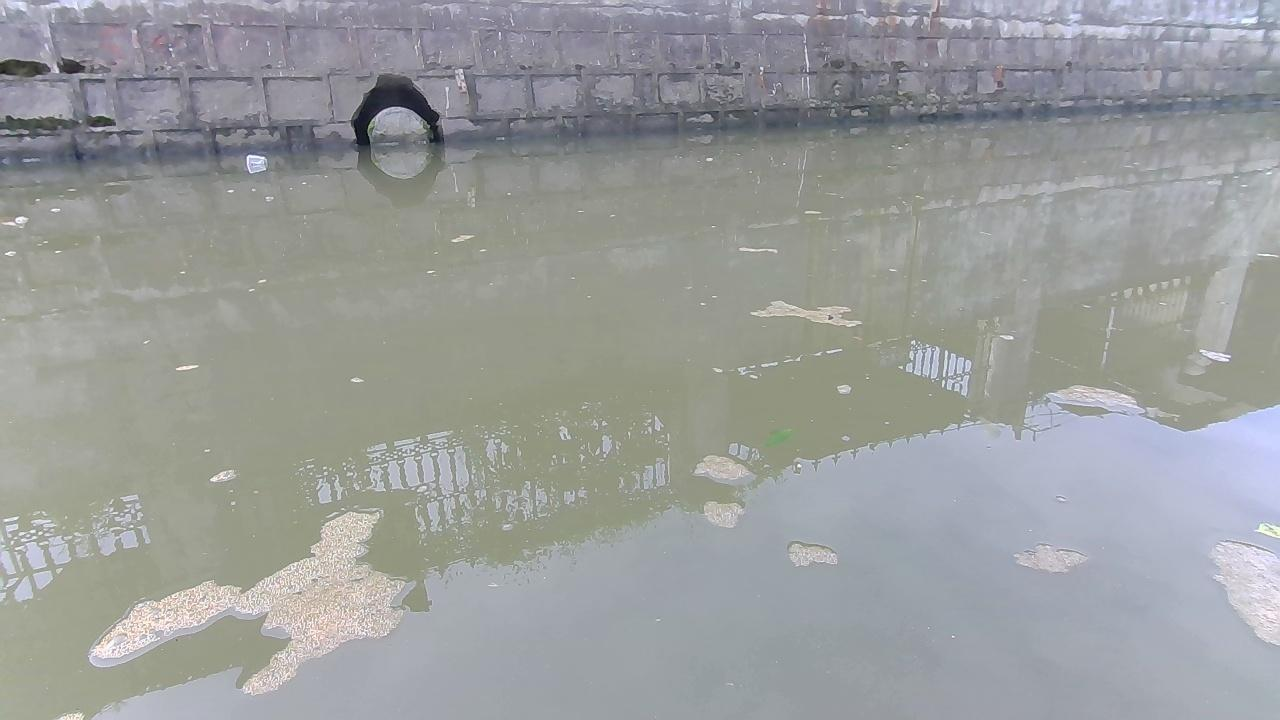bottle: (245, 152, 269, 165)
